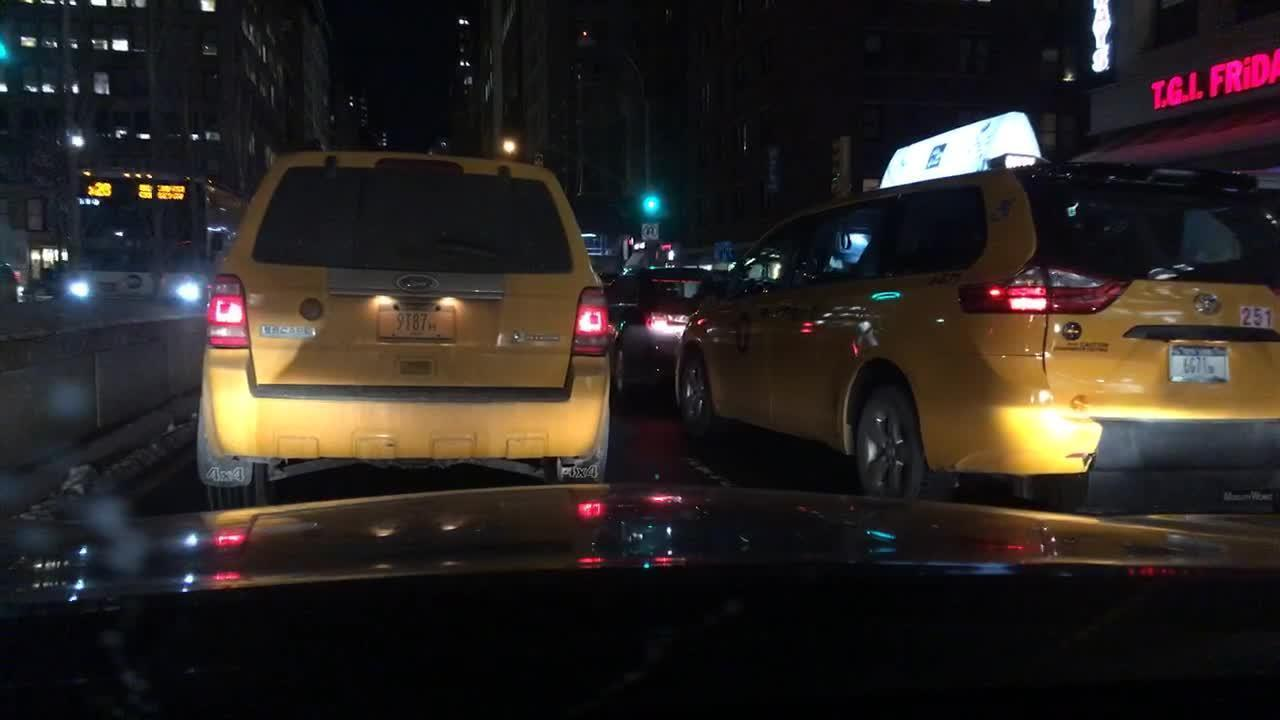Toyota: (1185, 283, 1235, 326)
ford: (386, 264, 448, 300)
